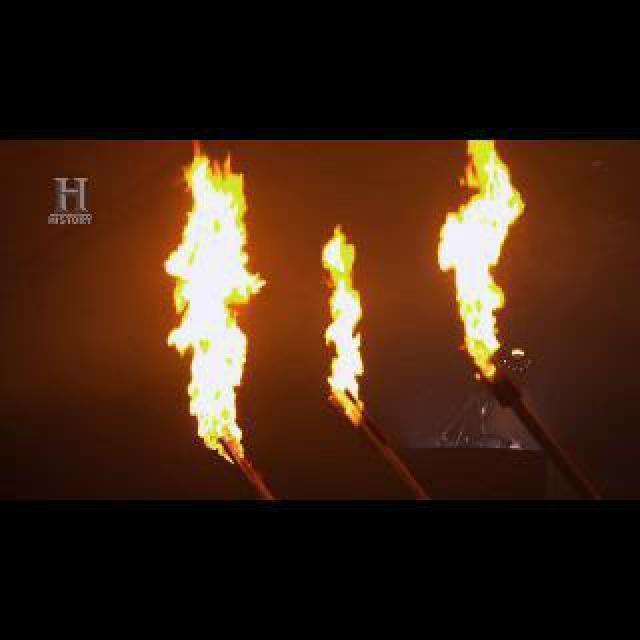Fire: (159, 152, 272, 466), (439, 142, 522, 380), (313, 226, 372, 424)
